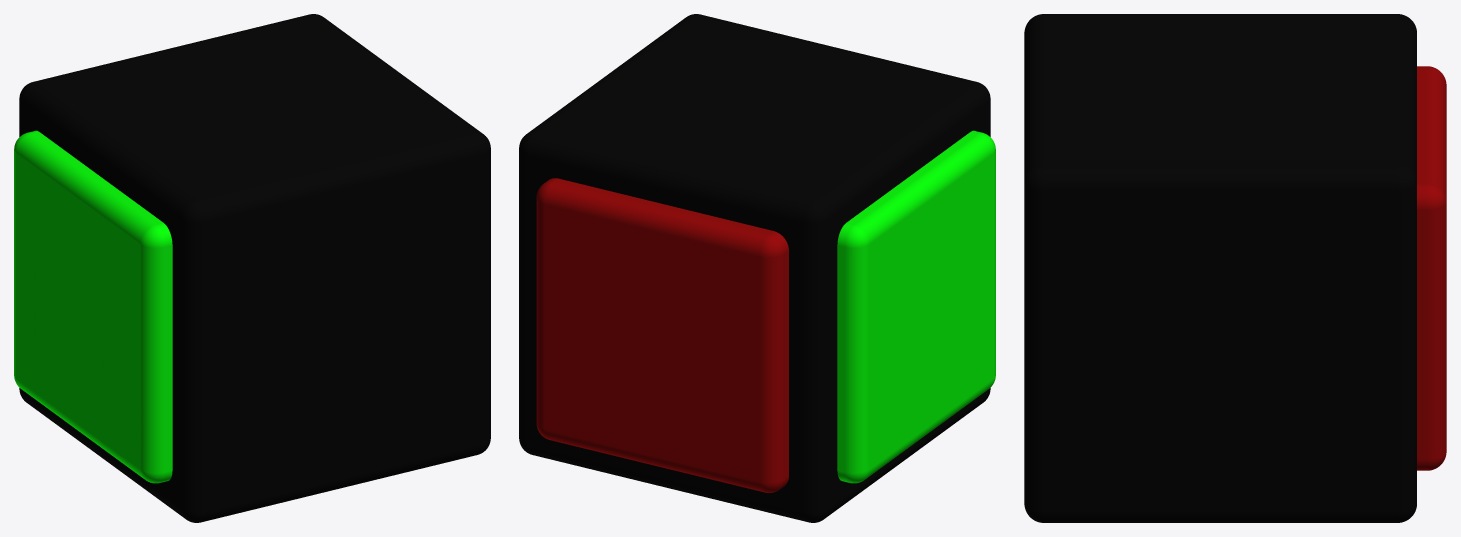
The model's file is cubinho(1, 0, -1).obj.
3 renders of one model, left to right at view 1: azimuth 30°, elevation 25°; view 2: azimuth 150°, elevation 25°; view 3: azimuth 270°, elevation 25°, orthographic. The views are drawn at different scales.
Visible parts, largest first — view 1: (1,_0,_-1); view 2: (1,_0,_-1); view 3: (1,_0,_-1).
Boxes of the visible parts, x1=… form: (1,_0,_-1): x1=14, y1=14, x2=490, y2=522; (1,_0,_-1): x1=519, y1=14, x2=995, y2=522; (1,_0,_-1): x1=1024, y1=14, x2=1446, y2=522.
Size of the model in its own units: 2.15 by 2 by 2.15.
